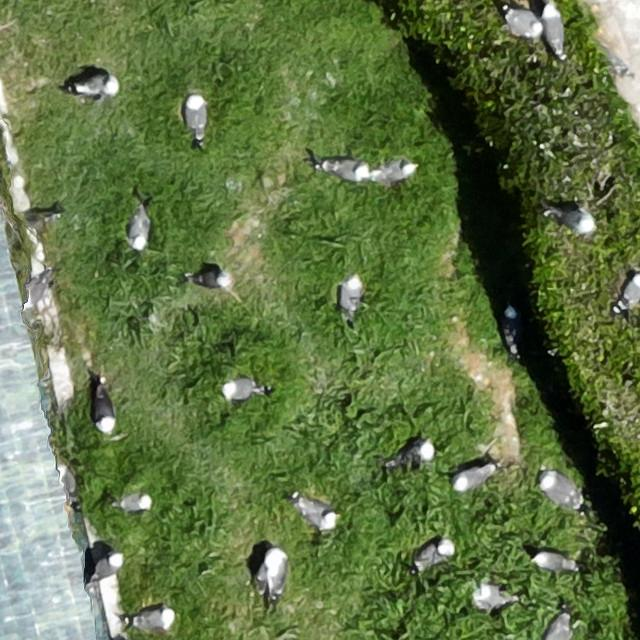umineko: (259, 550, 290, 602), (540, 469, 582, 506), (452, 462, 496, 491), (414, 539, 454, 569), (554, 211, 596, 234), (74, 76, 120, 97), (298, 500, 332, 528), (504, 9, 538, 37), (340, 275, 363, 314), (323, 160, 367, 180), (543, 8, 563, 51), (186, 96, 207, 136), (375, 160, 416, 180), (503, 307, 519, 358), (94, 392, 114, 431), (136, 608, 174, 628), (188, 271, 232, 287), (92, 554, 120, 579), (533, 552, 570, 570), (222, 381, 260, 398), (476, 585, 505, 607), (130, 214, 148, 249), (621, 274, 640, 307), (545, 614, 569, 640), (402, 442, 433, 462), (120, 496, 149, 512)
